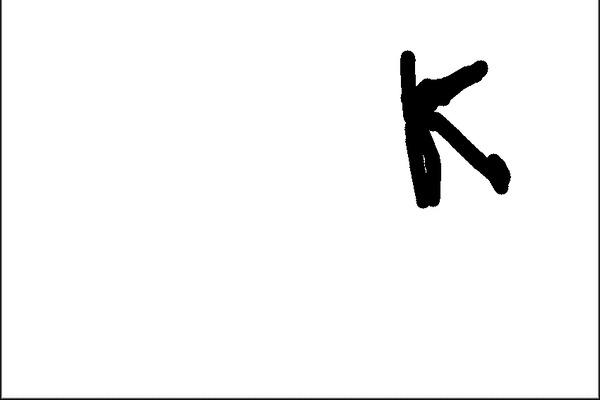K: (394, 41, 516, 215)
